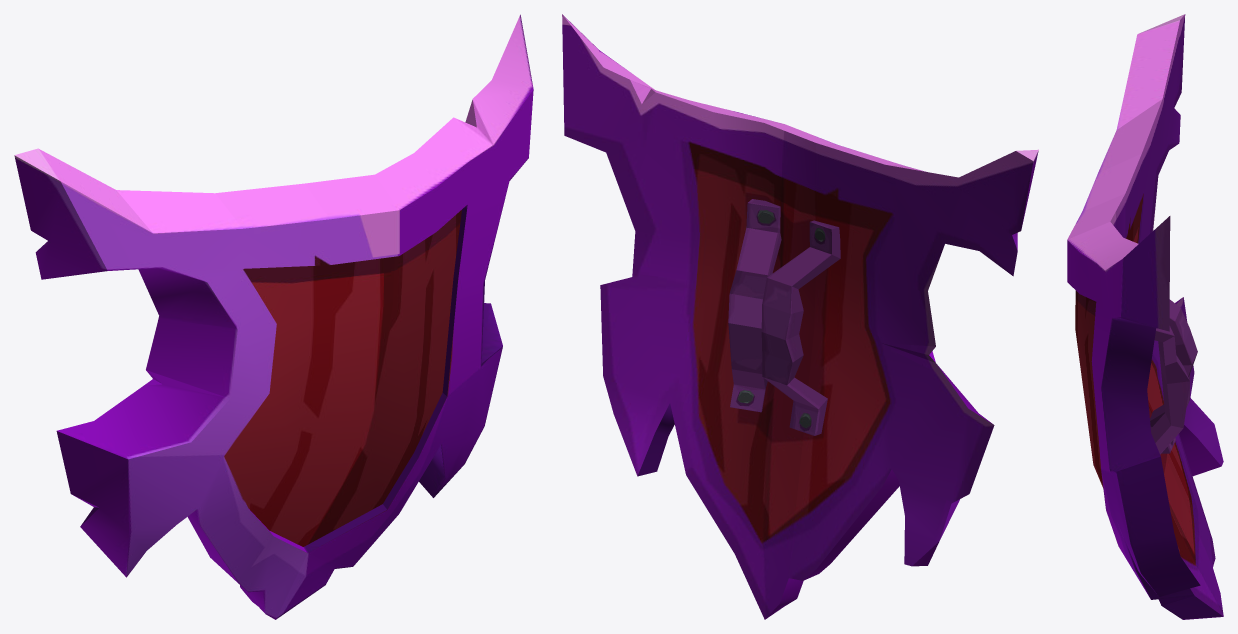
Rendered from Dark spider_05.FBX.
3 renders of one model, left to right at view 1: azimuth 30°, elevation 25°; view 2: azimuth 150°, elevation 25°; view 3: azimuth 270°, elevation 25°, orthographic. The views are drawn at different scales.
Parts seen in each view (by area): view 1: Dark spider_05; view 2: Dark spider_05; view 3: Dark spider_05.
Boxes of the visible parts, left/top/right/bottom form: Dark spider_05: left=14, top=14, right=533, bottom=619; Dark spider_05: left=562, top=14, right=1038, bottom=619; Dark spider_05: left=1067, top=14, right=1223, bottom=619.
Bounding box in the file's own units: 62.63 × 66.43 × 18.41.
